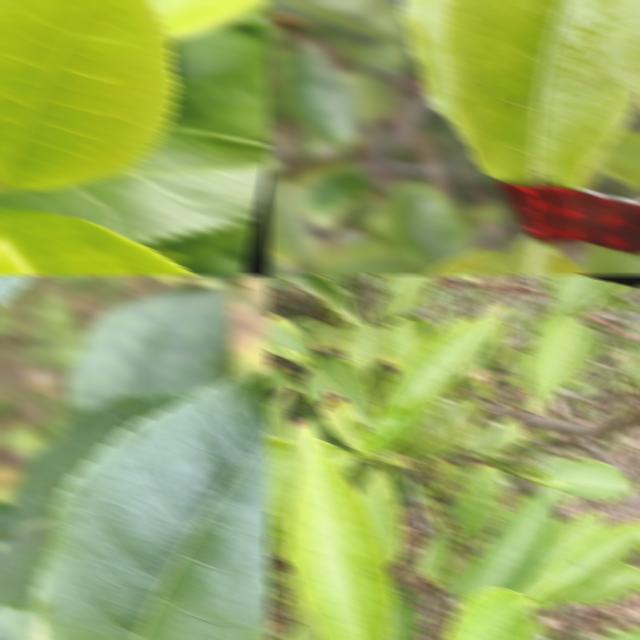Leaf: (32, 371, 270, 640), (439, 0, 640, 188), (0, 0, 177, 189), (0, 126, 270, 245), (288, 431, 395, 640), (64, 285, 233, 412), (377, 304, 509, 437), (459, 478, 558, 605), (519, 521, 640, 607), (275, 42, 360, 149), (527, 308, 600, 414), (169, 64, 270, 140), (387, 180, 472, 270), (519, 509, 604, 595), (396, 401, 487, 461), (301, 356, 376, 425), (268, 0, 406, 37), (148, 0, 270, 39), (443, 588, 534, 640), (357, 467, 403, 566), (306, 163, 372, 229), (313, 239, 425, 276), (355, 397, 422, 456), (543, 458, 636, 500), (266, 181, 311, 261), (279, 274, 354, 322), (459, 463, 502, 545), (566, 563, 640, 605), (342, 319, 394, 378), (266, 313, 319, 369), (598, 127, 640, 195), (318, 394, 366, 450), (387, 315, 435, 369), (549, 274, 609, 316), (417, 527, 455, 585), (391, 274, 441, 313), (482, 416, 528, 451), (385, 594, 418, 640), (266, 388, 292, 438), (439, 559, 475, 595), (431, 458, 459, 497), (319, 441, 354, 472), (508, 350, 533, 392), (266, 366, 300, 393), (625, 341, 640, 361)
